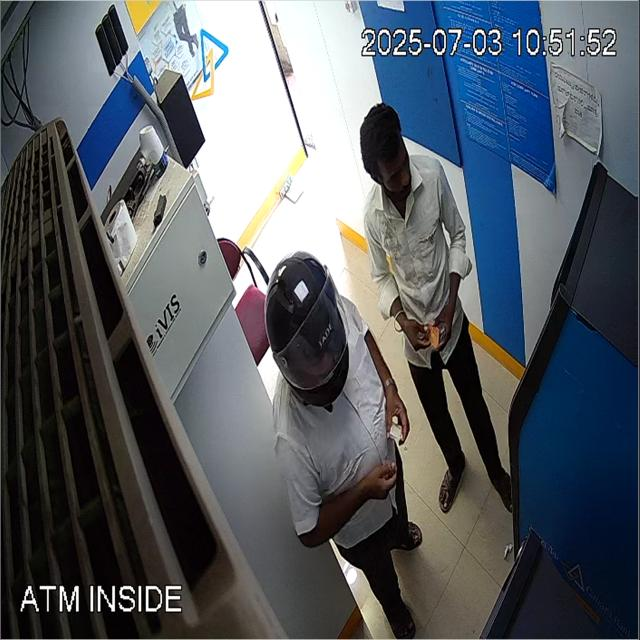helmet: (264, 251, 350, 407)
no_helmet: (360, 102, 412, 198)
